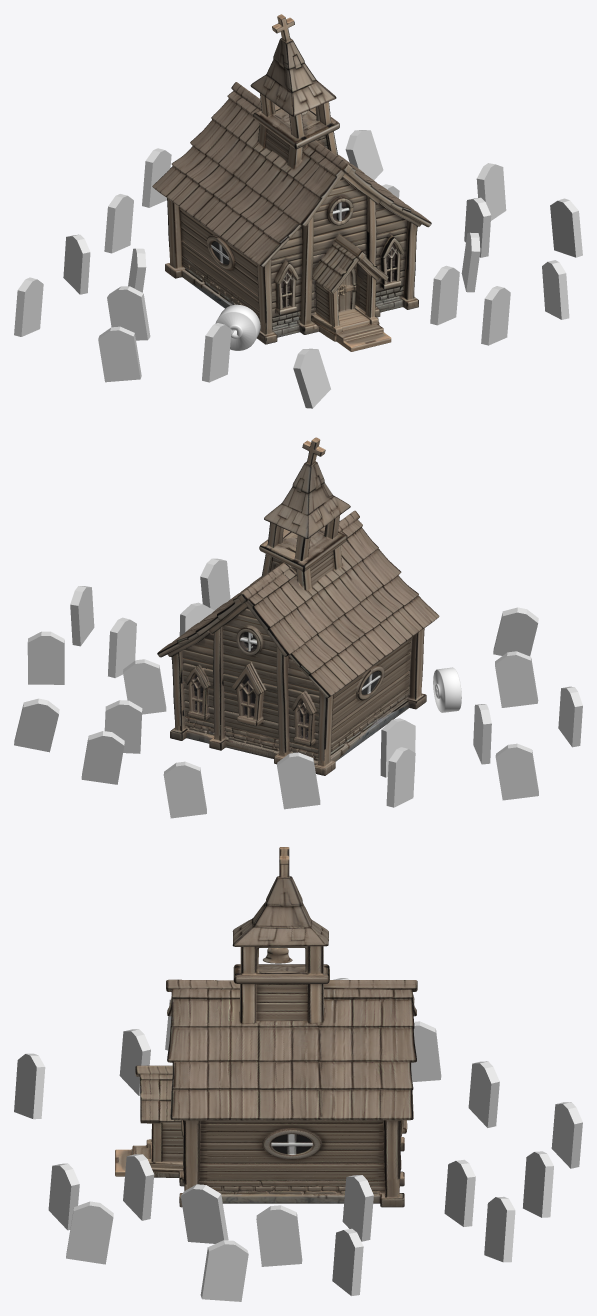
Rendered from churchyard.gltf.
3 views of the same model, one above another, from view 1: azimuth 30°, elevation 25°; view 2: azimuth 150°, elevation 25°; view 3: azimuth 270°, elevation 25° (orthographic). The views are drawn at different scales.
Visible parts, largest first — view 1: Mesh_0, Cube.013, Cube.015, Cube.019, Cube.003, Cube, Cube.014, Cube.007, Cube.012, Cube.016, Cylinder, Cube.018 (+7 smaller); view 2: Mesh_0, Cube.007, Cube.012, Cube.004, Cube.016, Cube.008, Cube.011, Cube.010, Cube.006, Cube.019, Cube.009, Cube.018 (+8 smaller); view 3: Mesh_0, Cube.003, Cube.005, Cube.001, Cube.002, Cube.011, Cube.010, Cube.019, Cube.009, Cube.008, Cube.007, Cube.014 (+5 smaller).
Boxes of the visible parts, <box> form: Mesh_0: <box>152,14,431,351</box>; Cube.013: <box>98,326,141,382</box>; Cube.015: <box>107,286,150,340</box>; Cube.019: <box>293,348,330,408</box>; Cube.003: <box>550,198,582,257</box>; Cube: <box>481,286,510,345</box>; Cube.014: <box>430,265,459,325</box>; Cube.007: <box>104,194,133,253</box>; Cube.012: <box>14,277,43,336</box>; Cube.016: <box>202,323,231,382</box>; Cylinder: <box>215,304,260,350</box>; Cube.018: <box>63,234,90,294</box>; Mesh_0: <box>157,437,439,775</box>; Cube.007: <box>277,752,320,809</box>; Cube.012: <box>495,743,538,800</box>; Cube.004: <box>163,761,206,818</box>; Cube.016: <box>495,651,538,707</box>; Cube.008: <box>27,631,64,684</box>; Cube.011: <box>81,731,124,784</box>; Cube.010: <box>14,698,59,752</box>; Cube.006: <box>123,659,166,714</box>; Cube.019: <box>493,607,538,656</box>; Cube.009: <box>104,700,142,753</box>; Cube.018: <box>386,747,415,807</box>; Mesh_0: <box>115,847,417,1207</box>; Cube.003: <box>200,1240,248,1301</box>; Cube.005: <box>256,1205,302,1266</box>; Cube.001: <box>66,1201,113,1264</box>; Cube.002: <box>180,1184,228,1243</box>; Cube.011: <box>523,1151,553,1217</box>; Cube.010: <box>484,1196,515,1262</box>; Cube.019: <box>14,1053,45,1119</box>; Cube.009: <box>444,1159,475,1226</box>; Cube.008: <box>332,1228,363,1296</box>; Cube.007: <box>468,1061,499,1127</box>; Cube.014: <box>123,1154,154,1220</box>.
Size of the model in its own units: 13.49 by 7.17 by 11.73.
2 materials, 1 textured.
